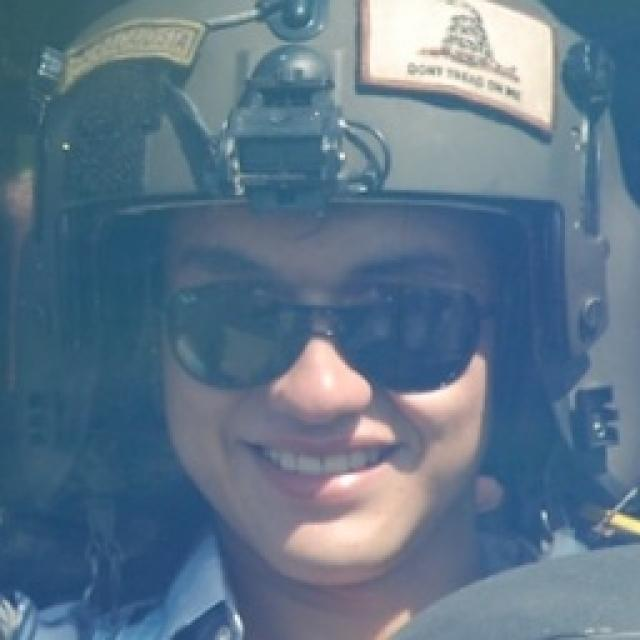glasses: (152, 262, 508, 400)
